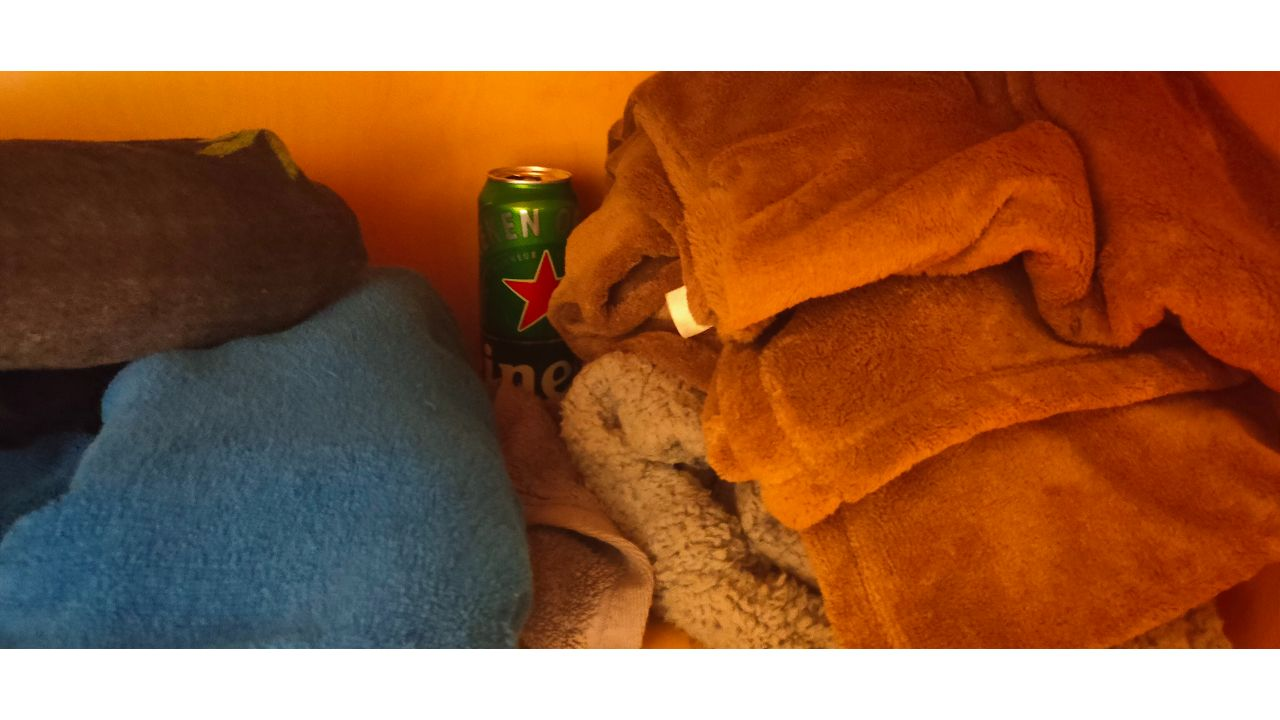Can: (476, 165, 584, 399)
